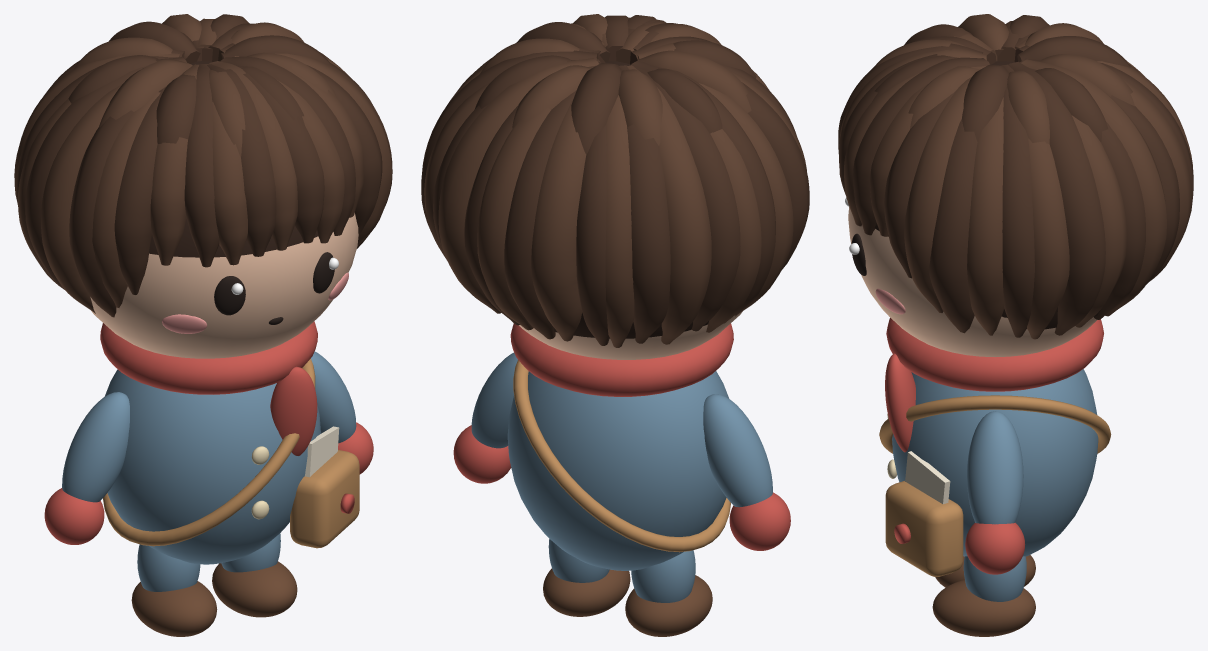
File: character.glb
3 renders of one model, left to right at view 1: azimuth 30°, elevation 25°; view 2: azimuth 150°, elevation 25°; view 3: azimuth 270°, elevation 25°, orthographic. The views are drawn at different scales.
Parts seen in each view (by area): view 1: Hair, Body, Head, Scarf, Arm_L, Bag, BagStrap, Boot_R, Boot_L, ScarfTail, Mitten_L, Arm_R (+7 smaller); view 2: Hair, Body, Scarf, Arm_L, BagStrap, Head, Boot_L, Boot_R, Arm_R, Mitten_L, Leg_L, Mitten_R (+1 smaller); view 3: Hair, Body, Head, Scarf, Bag, Arm_R, Boot_R, BagStrap, Mitten_R, ScarfTail, Leg_R, Letter (+1 smaller).
Boxes of the visible parts, x1=… form: Hair: x1=14, y1=14, x2=392, y2=317; Body: x1=104, y1=369, x2=320, y2=564; Head: x1=90, y1=213, x2=358, y2=358; Scarf: x1=100, y1=321, x2=317, y2=394; Arm_L: x1=62, y1=392, x2=129, y2=502; Bag: x1=290, y1=450, x2=359, y2=548; BagStrap: x1=103, y1=358, x2=315, y2=546; Boot_R: x1=212, y1=561, x2=297, y2=617; Boot_L: x1=131, y1=581, x2=217, y2=636; ScarfTail: x1=270, y1=366, x2=317, y2=455; Mitten_L: x1=44, y1=488, x2=104, y2=544; Arm_R: x1=311, y1=351, x2=356, y2=443; Hair: x1=421, y1=14, x2=809, y2=347; Body: x1=507, y1=371, x2=729, y2=570; Scarf: x1=510, y1=323, x2=733, y2=396; Arm_L: x1=703, y1=394, x2=772, y2=507; BagStrap: x1=513, y1=360, x2=730, y2=552; Head: x1=519, y1=311, x2=742, y2=359; Boot_L: x1=625, y1=575, x2=712, y2=636; Boot_R: x1=543, y1=568, x2=630, y2=616; Arm_R: x1=471, y1=352, x2=517, y2=448; Mitten_L: x1=729, y1=492, x2=790, y2=550; Leg_L: x1=631, y1=550, x2=695, y2=602; Mitten_R: x1=453, y1=425, x2=511, y2=483; Hair: x1=838, y1=14, x2=1193, y2=339; Body: x1=892, y1=369, x2=1098, y2=556; Head: x1=848, y1=207, x2=1097, y2=357; Scarf: x1=886, y1=317, x2=1103, y2=391; Bag: x1=885, y1=481, x2=963, y2=576; Arm_R: x1=967, y1=411, x2=1023, y2=524; Boot_R: x1=932, y1=580, x2=1035, y2=636; BagStrap: x1=879, y1=395, x2=1111, y2=453; Mitten_R: x1=965, y1=522, x2=1025, y2=574; ScarfTail: x1=885, y1=353, x2=915, y2=452; Leg_R: x1=963, y1=556, x2=1026, y2=601; Letter: x1=905, y1=451, x2=950, y2=504.
Bounding box in the file's own units: 0.6945 × 1.15 × 0.653.
